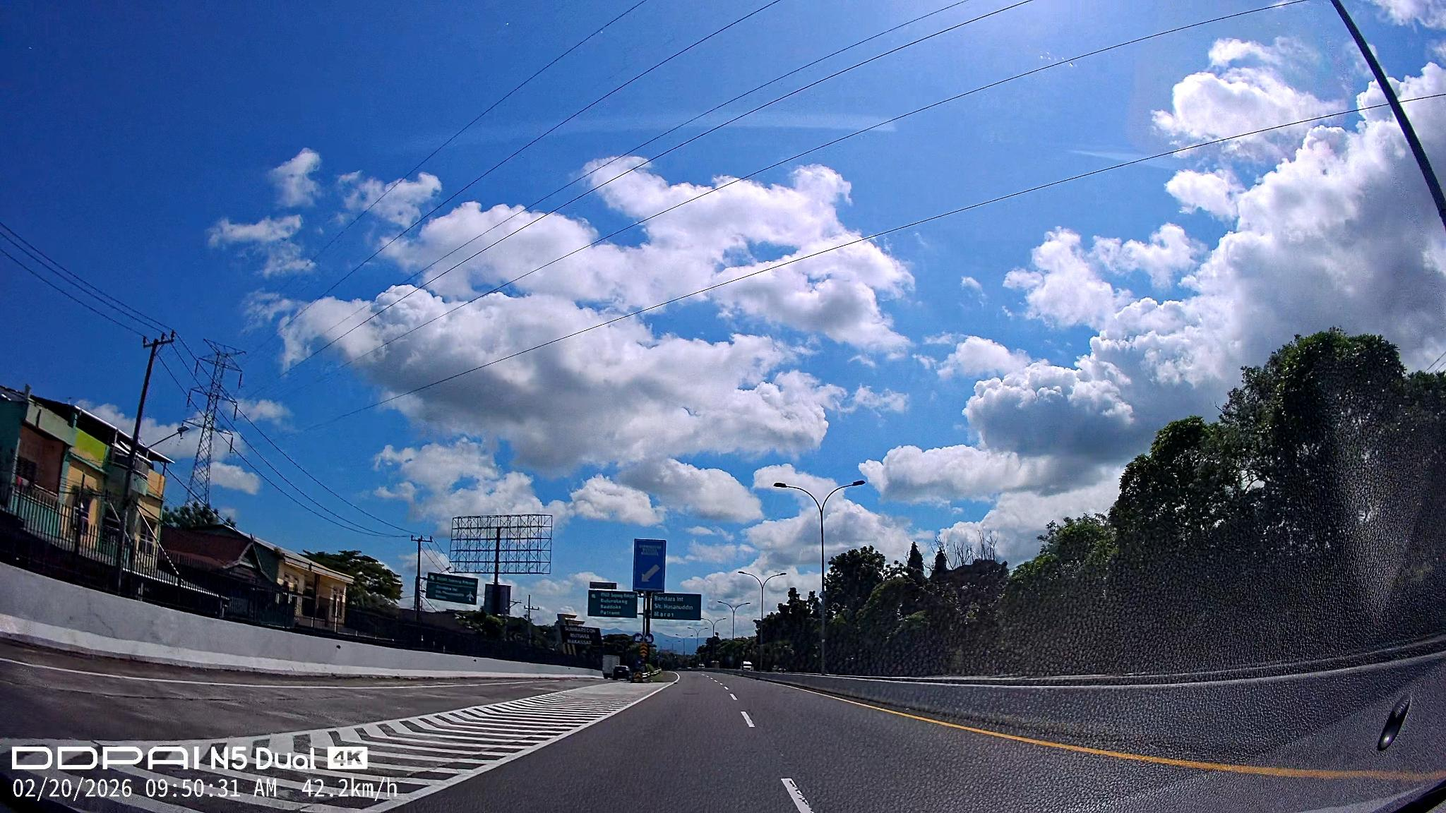rambu_teks: (586, 589, 638, 619), (651, 592, 702, 621)
